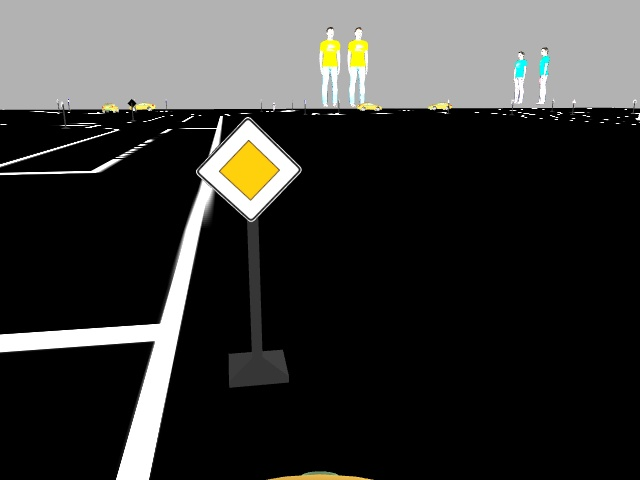Priority: (190, 116, 303, 216)
